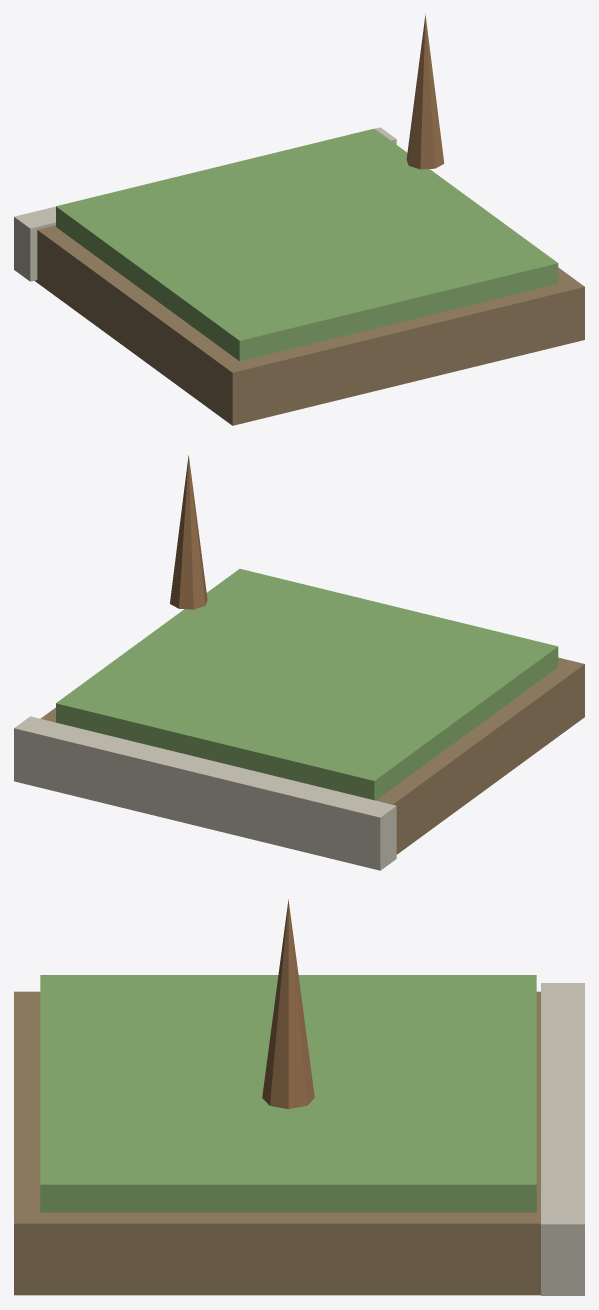
The model's file is 23_CocGo.glb.
3 views of the same model, one above another, from view 1: azimuth 30°, elevation 25°; view 2: azimuth 150°, elevation 25°; view 3: azimuth 270°, elevation 25° (orthographic). The views are drawn at different scales.
Parts seen in each view (by area): view 1: grass, soil, stake, border; view 2: grass, border, soil, stake; view 3: grass, soil, border, stake.
Boxes of the visible parts, x1,y1,x2,y2 form: grass: [56, 128, 558, 361]; soil: [34, 225, 584, 425]; stake: [406, 14, 444, 169]; border: [14, 127, 396, 281]; grass: [56, 569, 558, 800]; border: [14, 716, 396, 870]; soil: [40, 657, 584, 854]; stake: [170, 455, 207, 609]; grass: [40, 975, 536, 1212]; soil: [14, 991, 540, 1295]; border: [541, 983, 584, 1295]; stake: [262, 899, 314, 1108].
Bounding box in the file's own units: 1.3 × 0.9 × 1.3.
